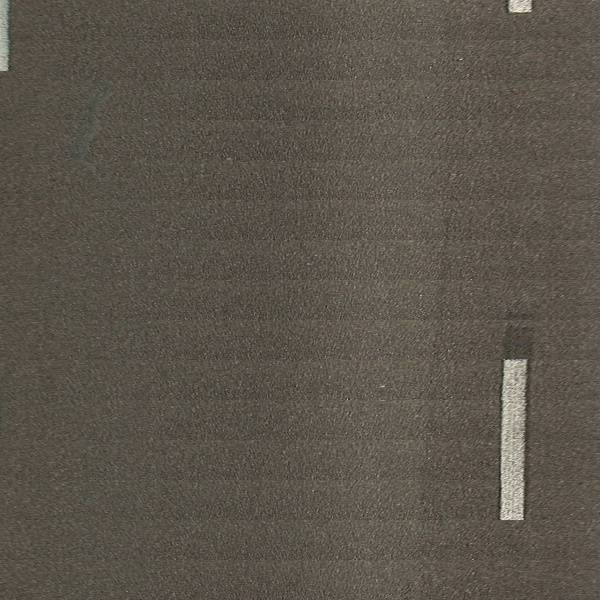road_damage: (70, 76, 116, 166)
